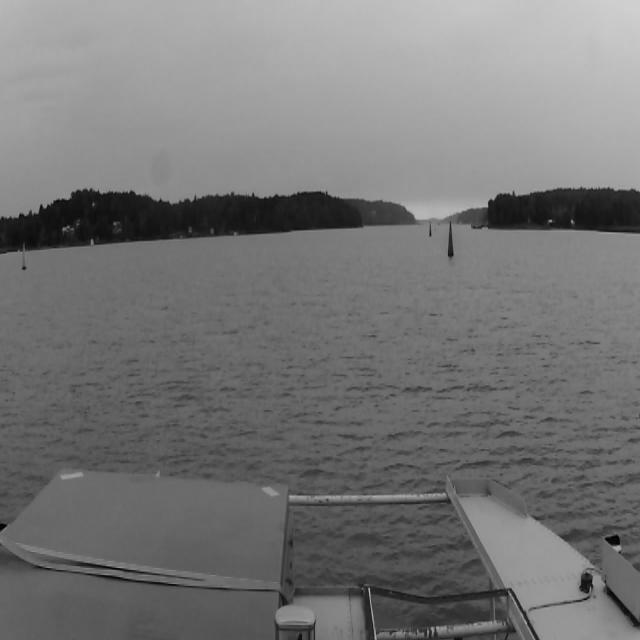buoy: (447, 220, 454, 258), (21, 243, 27, 271), (428, 220, 432, 237)
